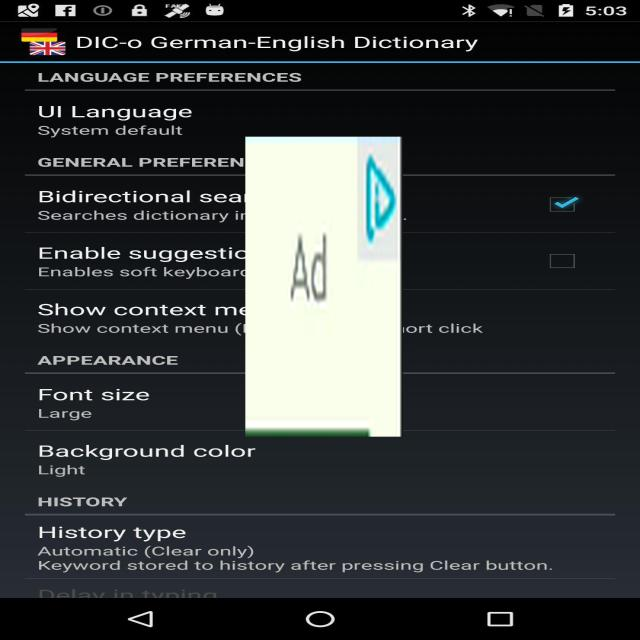sneaking: (245, 136, 403, 436)
